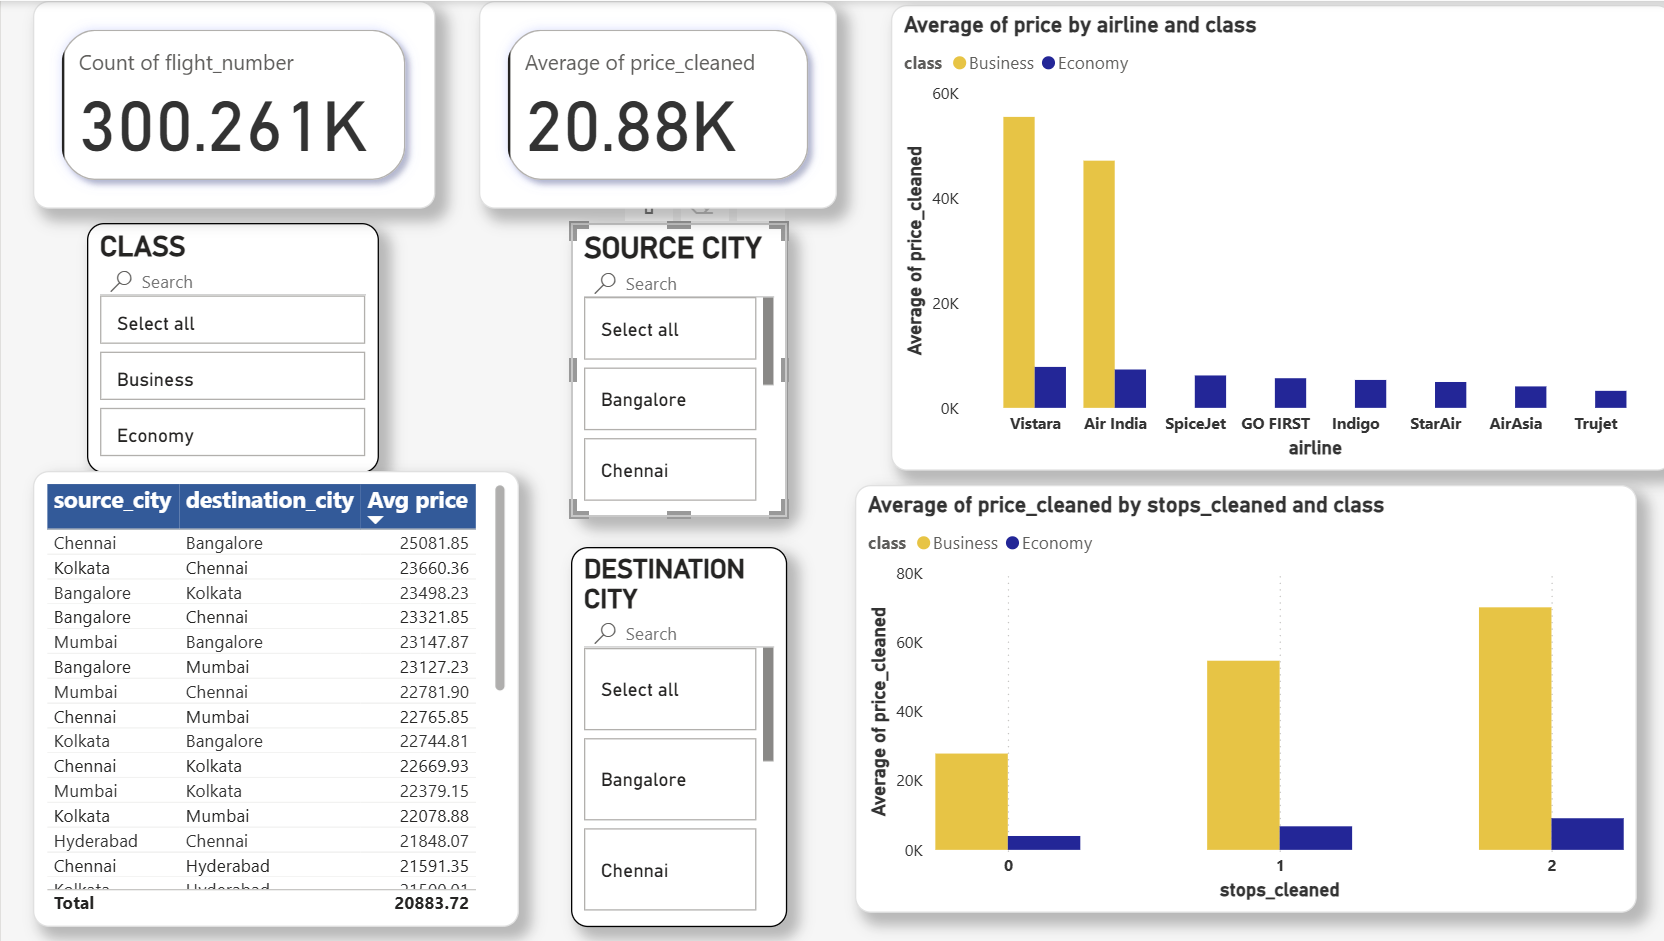

The page's visual inventory and layout, read from the dashboard file:
{"tool":"powerbi","page":{"name":"Page 4","canvas":[1280,720],"ordinal":0},"visuals":[{"type":"advancedSlicerVisual","fields":{"Values":["project combined_flights.airline"]},"box":[953.9,18.4,160.8,280.2],"z":0},{"type":"advancedSlicerVisual","title":"CLASS","fields":{"Values":["project combined_flights.class"]},"box":[65.8,170,223.5,191.4],"z":1000},{"type":"advancedSlicerVisual","title":"SOURCE CITY","fields":{"Values":["project combined_flights.source_city"]},"box":[436.4,170,165.4,225.1],"z":2000},{"type":"advancedSlicerVisual","title":"DESTINATION CITY","fields":{"Values":["project combined_flights.destination_city"]},"box":[436.4,418,165.4,290.9],"z":3000},{"type":"cardVisual","fields":{"Data":["Avg(project combined_flights.price_cleaned)"]},"box":[365.9,0,274.1,159.2],"z":4000},{"type":"cardVisual","fields":{"Data":["CountNonNull(project combined_flights.flight_number)"]},"box":[24.5,0,307.8,159.2],"z":5000},{"type":"clusteredColumnChart","title":"Average of price by airline and class","fields":{"Category":["project combined_flights.airline"],"Y":["Avg(project combined_flights.price_cleaned)"],"Series":["project combined_flights.class"]},"box":[681.3,3.1,598.7,356.7],"z":6000},{"type":"clusteredColumnChart","fields":{"Y":["Avg(project combined_flights.price_cleaned)"],"Category":["project combined_flights.stops_cleaned"],"Series":["project combined_flights.class"]},"box":[653.8,370.5,598.7,327.7],"z":7000},{"type":"tableEx","fields":{"Values":["project combined_flights.source_city","project combined_flights.destination_city","Avg(project combined_flights.price_cleaned)"]},"box":[24.5,359.8,372.1,349.1],"z":8000}]}

Visuals, with their boxes in screenshot pixels (x1, y1, x2, y2), scaled from the page's 1280x720 canvas onto the 1664x941 screenshot:
advancedSlicerVisual - project combined_flights.airline: bbox(1240, 24, 1449, 390)
"CLASS" advancedSlicerVisual: bbox(86, 222, 376, 472)
"SOURCE CITY" advancedSlicerVisual: bbox(567, 222, 782, 516)
"DESTINATION CITY" advancedSlicerVisual: bbox(567, 546, 782, 926)
cardVisual - Avg(project combined_flights.price_cleaned): bbox(476, 0, 832, 208)
cardVisual - CountNonNull(project combined_flights.flight_number): bbox(32, 0, 432, 208)
"Average of price by airline and class" clusteredColumnChart: bbox(886, 4, 1663, 470)
clusteredColumnChart - Avg(project combined_flights.price_cleaned) x project combined_flights.stops_cleaned: bbox(850, 484, 1628, 913)
tableEx - project combined_flights.source_city x project combined_flights.destination_city: bbox(32, 470, 516, 926)
